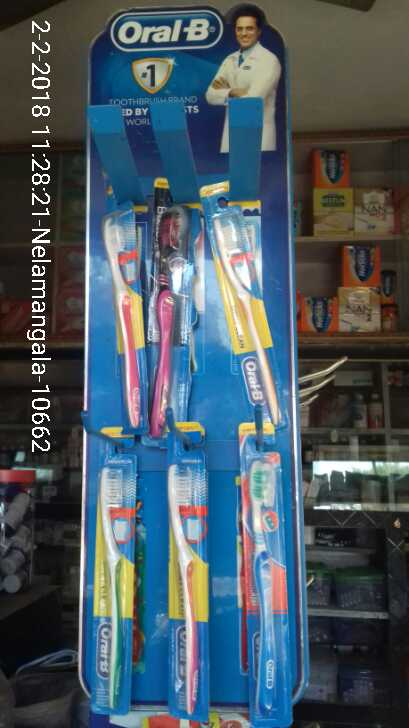oralb: (205, 198, 289, 431), (84, 459, 146, 709), (243, 448, 295, 712), (162, 451, 211, 720), (99, 212, 149, 430), (150, 204, 190, 440)
